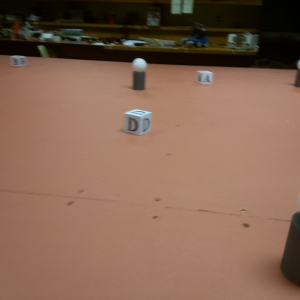blockA: (197, 70, 212, 85)
blockD: (125, 108, 152, 136)
obstacle: (132, 59, 148, 90)
